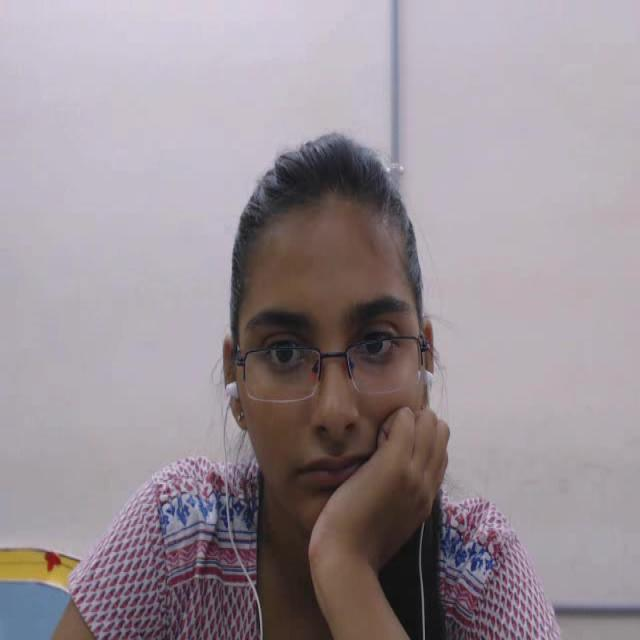Bored: (188, 86, 484, 588)
